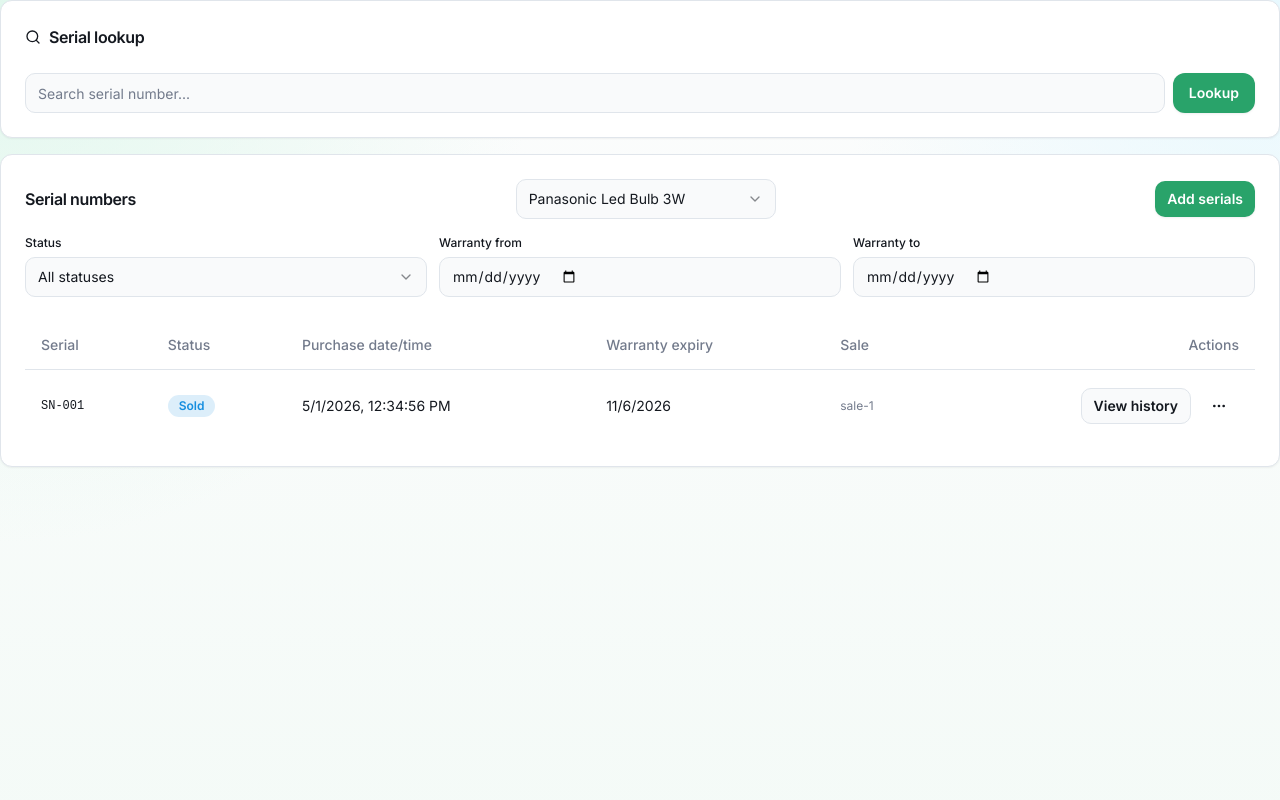
Test: SerialNumbersTab › shows serial history timeline from the actions menu
Expected: the text "SN-001" is shown, [25, 369, 152, 442]
Click the button "View history" at (1136, 406), box [1080, 388, 1191, 424]
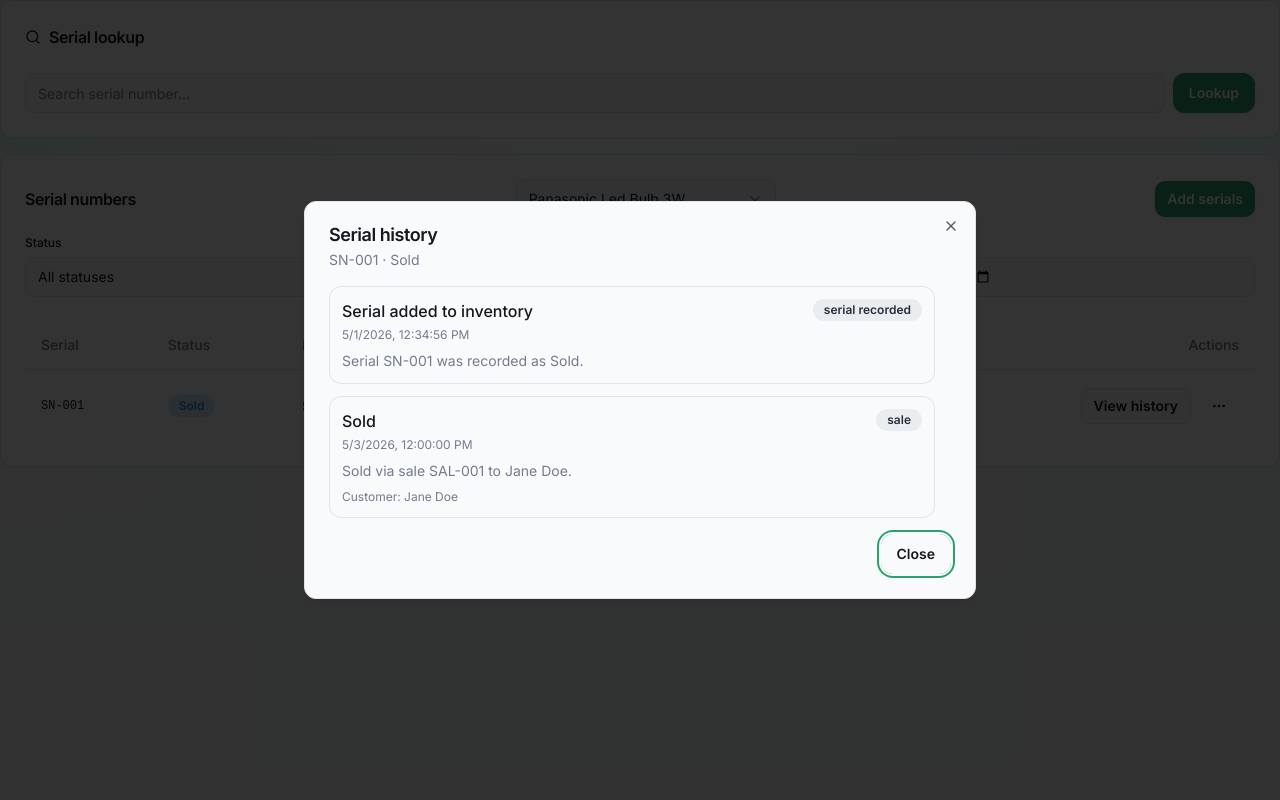
Expected: the dialog "Serial history" is shown, [304, 201, 976, 599]
Expected: the text "Serial added to inventory" is shown, [342, 299, 533, 323]
Expected: the text "Sold via sale SAL-001 to Jane Doe." is shown, [342, 462, 572, 479]
